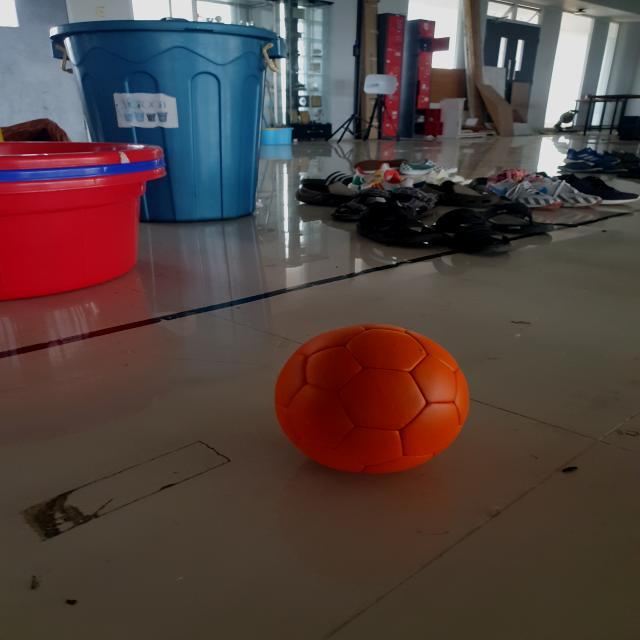bola: (274, 322, 468, 478)
